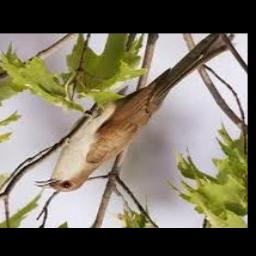Cuckoo: (33, 33, 237, 192)
